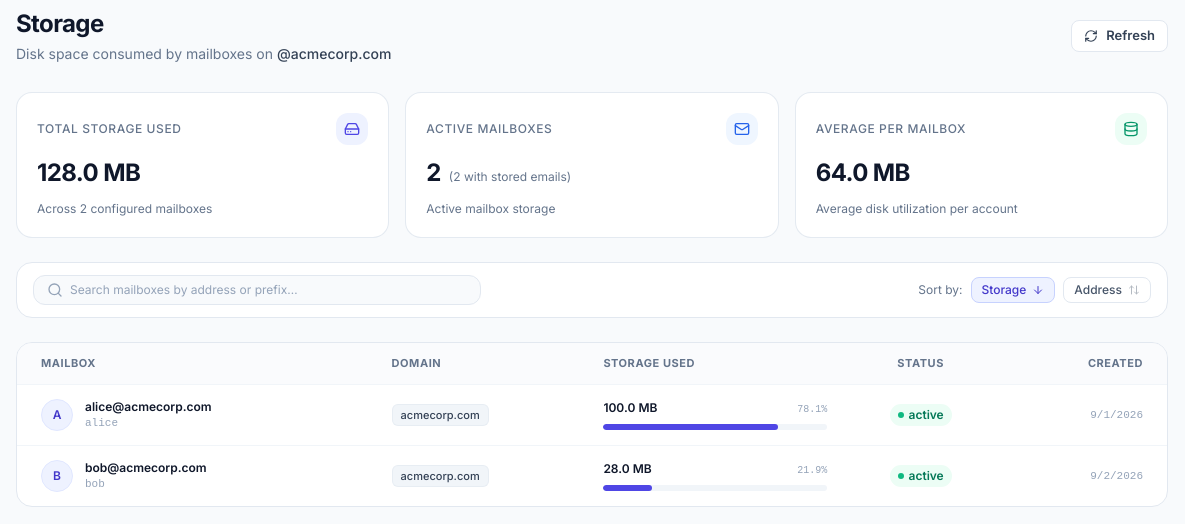
Test case: StorageView Component › filters mailboxes when typing in the search input
Type "alice" into the field with placeholder "Search mailboxes by address or prefix…".
click(257, 290); type("alice")  # box [33,275,481,305]
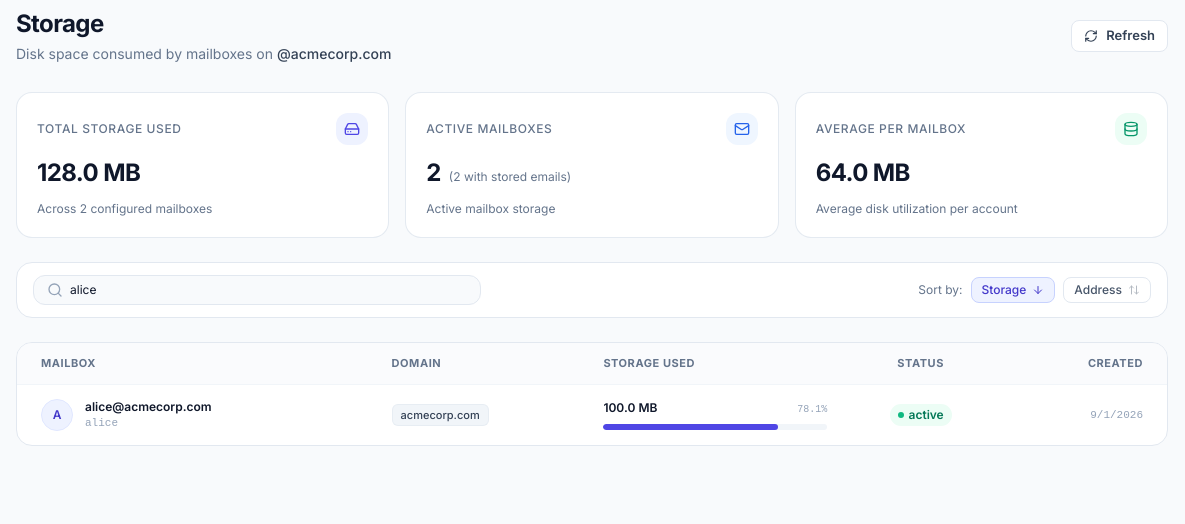
Expected: the text "bob@acmecorp.com" is gone
